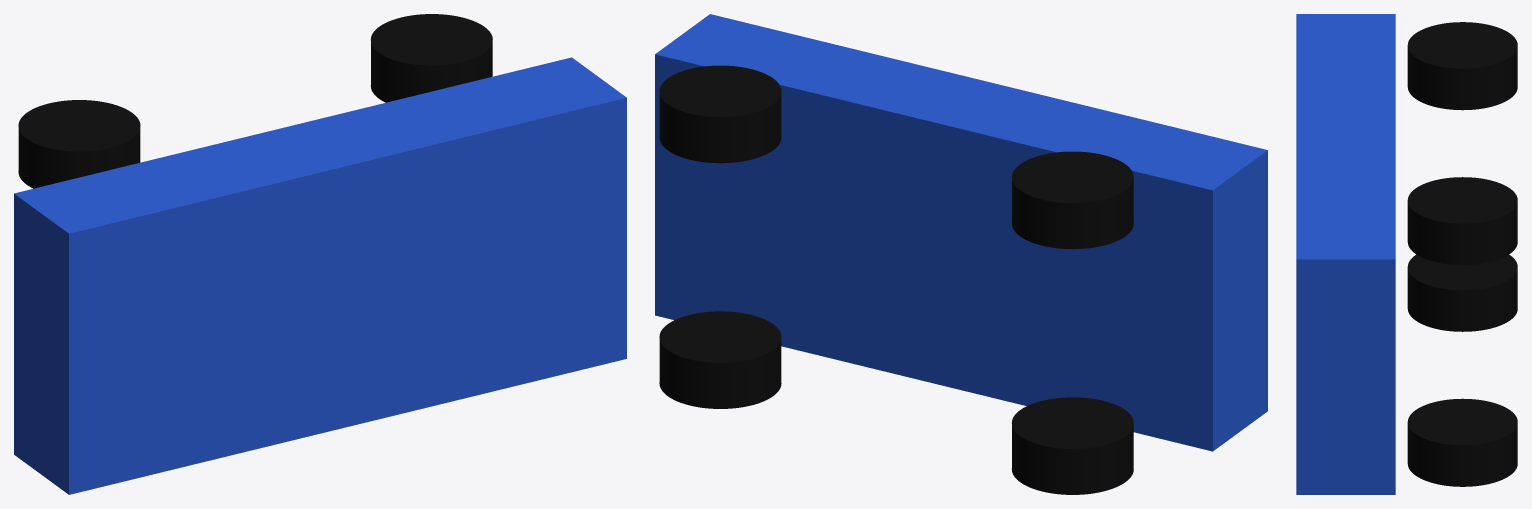
The model's file is BoxCar.obj.
3 renders of one model, left to right at view 1: azimuth 30°, elevation 25°; view 2: azimuth 150°, elevation 25°; view 3: azimuth 270°, elevation 25°, orthographic. The views are drawn at different scales.
Visible parts, largest first — view 1: Chassis, WFR, WRR; view 2: Chassis, WRL, WRR, WFL, WFR; view 3: Chassis, WFR, WRL, WRR, WFL.
Part boxes in pixels (box(x1,y1,x2,y2)): Chassis: box(14, 57, 626, 494); WFR: box(18, 100, 140, 188); WRR: box(370, 14, 492, 102); Chassis: box(655, 14, 1267, 451); WRL: box(659, 311, 781, 408); WRR: box(659, 65, 781, 163); WFL: box(1011, 397, 1133, 494); WFR: box(1011, 151, 1133, 249); Chassis: box(1296, 14, 1395, 494); WFR: box(1407, 22, 1517, 110); WRL: box(1407, 398, 1517, 486); WRR: box(1407, 177, 1517, 265); WFL: box(1407, 254, 1517, 331).
Size of the model in its own units: 3.8 by 1.9 by 1.45.
